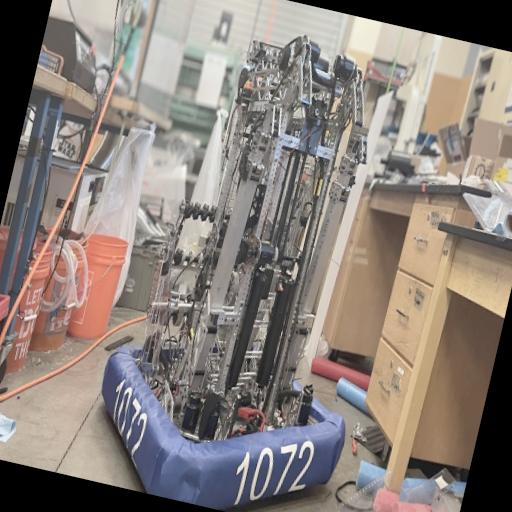robot: (82, 10, 432, 512)
